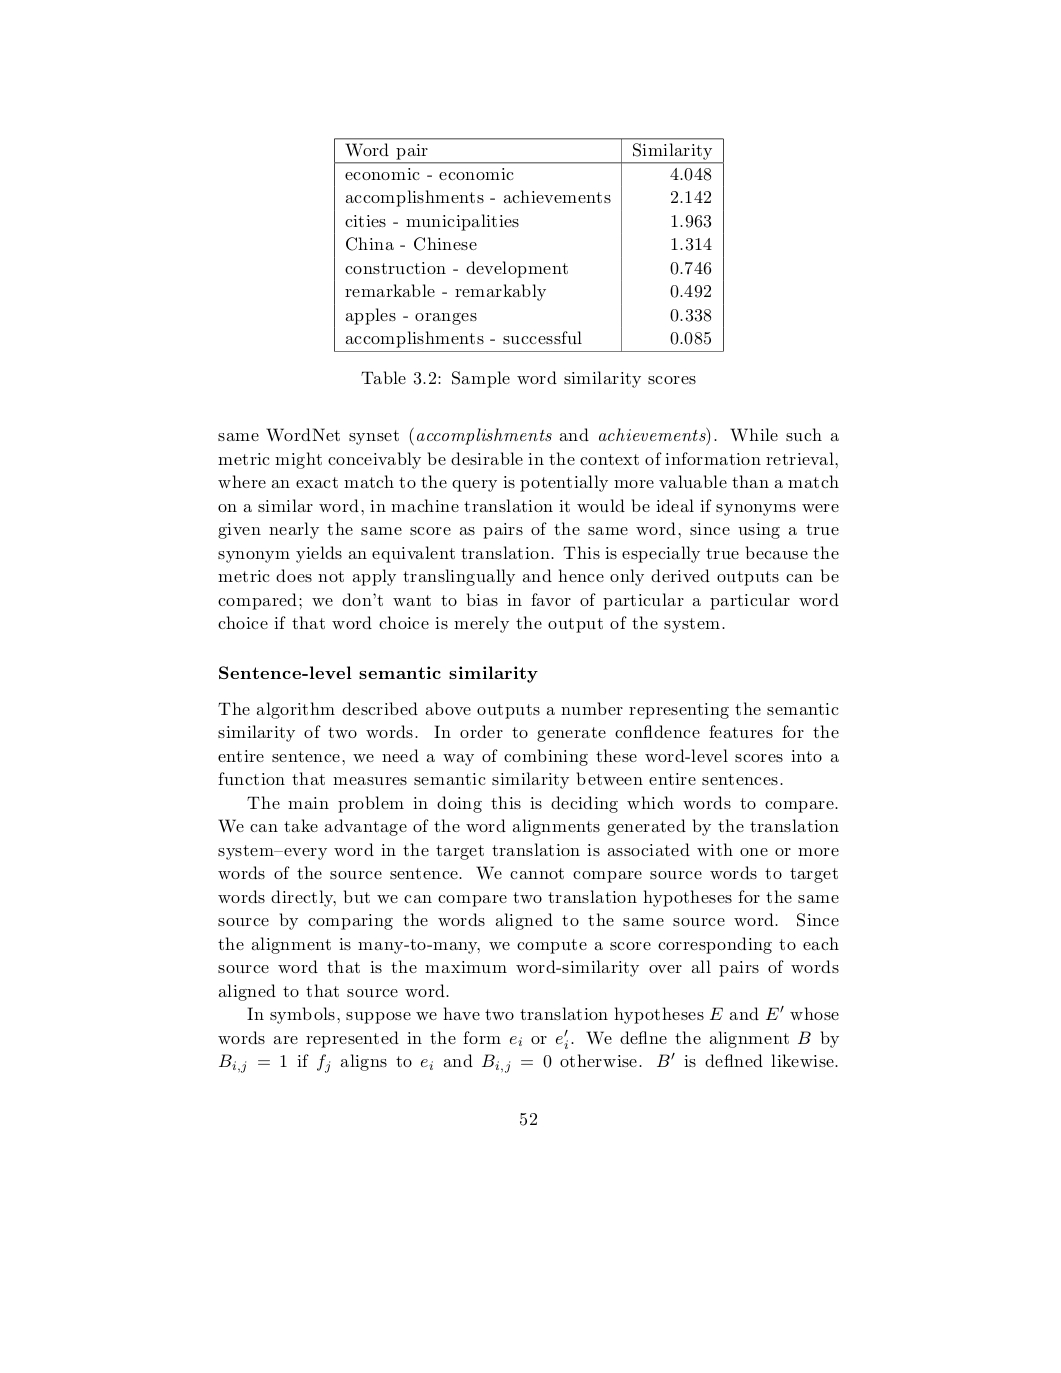Table: (334, 137, 723, 352)
